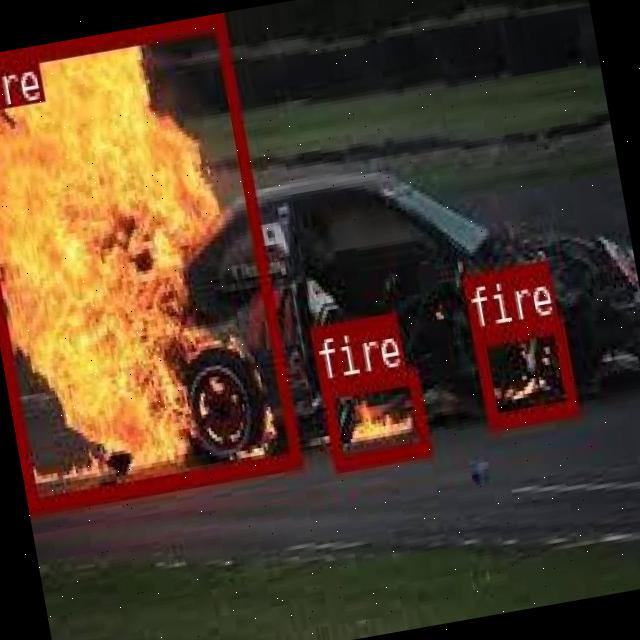fire: (0, 12, 300, 509), (470, 312, 577, 428), (318, 363, 428, 468)
